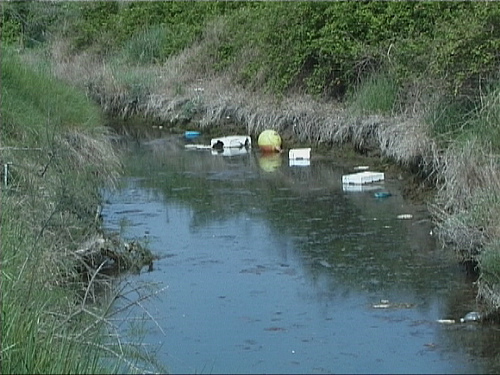litter: (258, 129, 283, 153), (339, 170, 385, 183), (208, 136, 252, 148), (288, 147, 312, 161), (459, 310, 482, 322), (184, 142, 209, 149), (180, 130, 201, 138), (372, 191, 394, 198), (394, 213, 412, 220)
